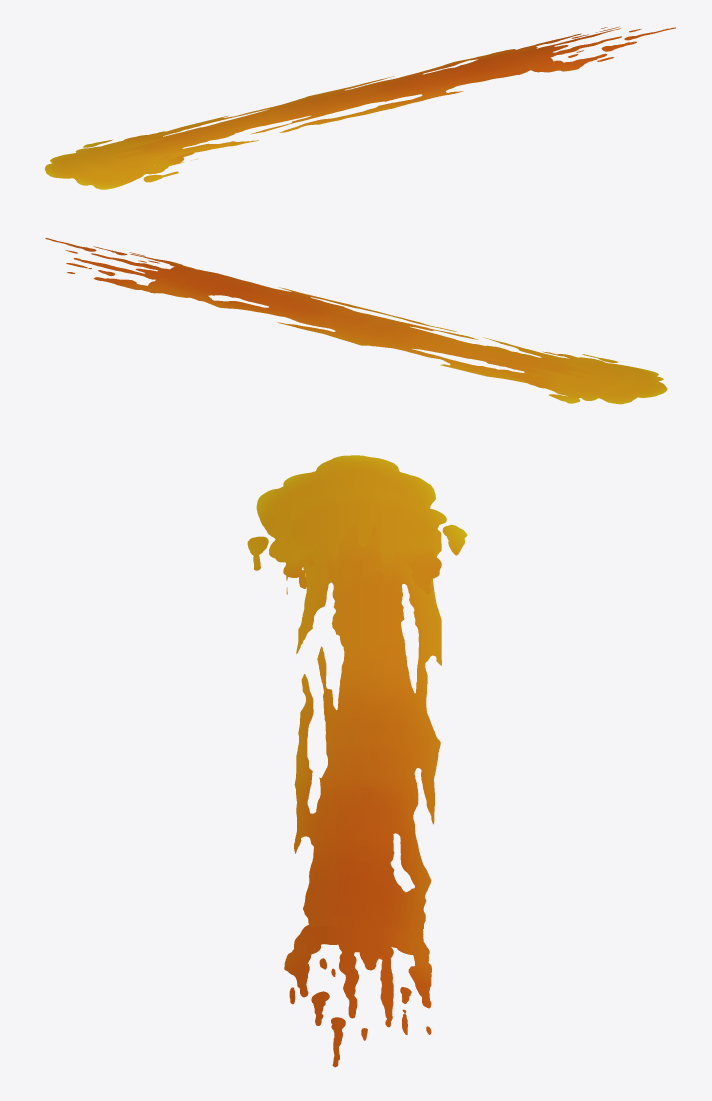
The model's file is VFX_Pooka_Trail.gltf.
3 renders of one model, top to bottom at view 1: azimuth 30°, elevation 25°; view 2: azimuth 150°, elevation 25°; view 3: azimuth 270°, elevation 25°, orthographic. The views are drawn at different scales.
Visible parts, largest first — view 1: VFX_Pooka_trail_middle, VFX_Pooka_trail_head, VFX_Pooka_trail_end; view 2: VFX_Pooka_trail_middle, VFX_Pooka_trail_head, VFX_Pooka_trail_end; view 3: VFX_Pooka_trail_middle, VFX_Pooka_trail_head, VFX_Pooka_trail_end.
Part boxes in pixels (<box>): VFX_Pooka_trail_middle: <box>113,49,538,166</box>; VFX_Pooka_trail_head: <box>45,131,194,189</box>; VFX_Pooka_trail_end: <box>517,26,675,72</box>; VFX_Pooka_trail_middle: <box>166,269,597,397</box>; VFX_Pooka_trail_head: <box>510,351,667,404</box>; VFX_Pooka_trail_end: <box>45,238,194,297</box>; VFX_Pooka_trail_middle: <box>286,522,441,932</box>; VFX_Pooka_trail_head: <box>247,455,467,594</box>; VFX_Pooka_trail_end: <box>284,924,431,1067</box>.
Bounding box in the file's own units: 2.56 × 0.0376 × 0.4.
Materials: 1 (1 with a texture image).
